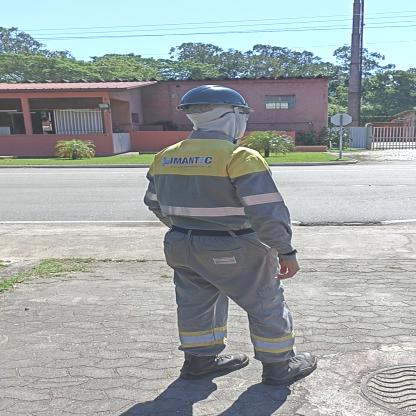Balaclava: (184, 107, 249, 139)
Capacete: (175, 82, 254, 107)
